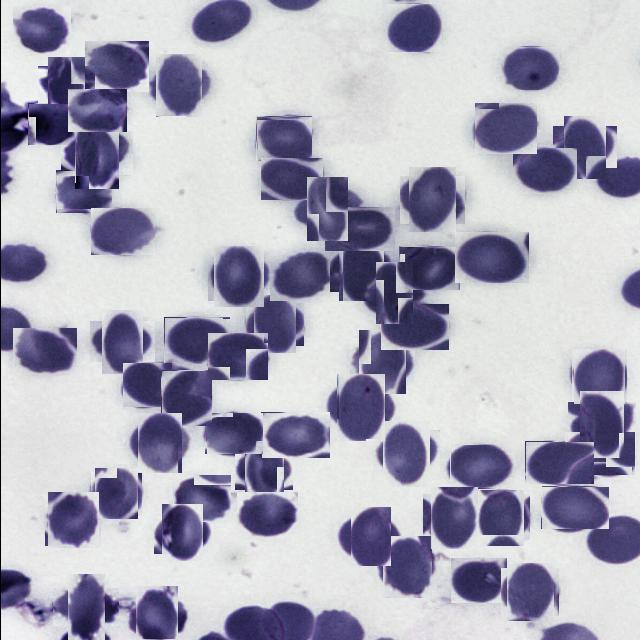red blood cell: (454, 232, 528, 283), (67, 124, 125, 182), (331, 378, 389, 436), (473, 102, 536, 154), (84, 41, 148, 92), (377, 425, 434, 482), (378, 538, 434, 596), (269, 251, 333, 301), (403, 172, 460, 228), (260, 412, 329, 458), (210, 248, 266, 304), (573, 396, 629, 452), (380, 304, 448, 350), (563, 432, 634, 476), (163, 317, 229, 364), (324, 207, 394, 251), (354, 334, 409, 389), (150, 58, 206, 112), (12, 328, 76, 375), (90, 208, 154, 255), (540, 486, 608, 530), (426, 491, 480, 546), (524, 441, 593, 484), (512, 148, 576, 194), (206, 332, 267, 380), (334, 242, 388, 296), (46, 493, 100, 547), (572, 349, 625, 404), (236, 492, 297, 539), (502, 566, 556, 619), (160, 370, 211, 426), (12, 6, 70, 55), (449, 444, 513, 488), (95, 315, 148, 368), (300, 182, 353, 235), (172, 474, 230, 522), (558, 120, 610, 173), (133, 417, 185, 470), (474, 491, 526, 543), (59, 581, 111, 633), (398, 246, 459, 290), (386, 4, 441, 52), (260, 158, 322, 200), (248, 300, 300, 350), (129, 591, 182, 640), (67, 89, 126, 132), (450, 558, 506, 603), (256, 116, 312, 161), (501, 46, 558, 90), (345, 511, 395, 561), (156, 508, 206, 558), (368, 268, 418, 318), (203, 412, 262, 454), (55, 170, 111, 213), (238, 446, 288, 494), (92, 470, 140, 518), (42, 61, 89, 108), (122, 363, 171, 407), (27, 103, 74, 145)
